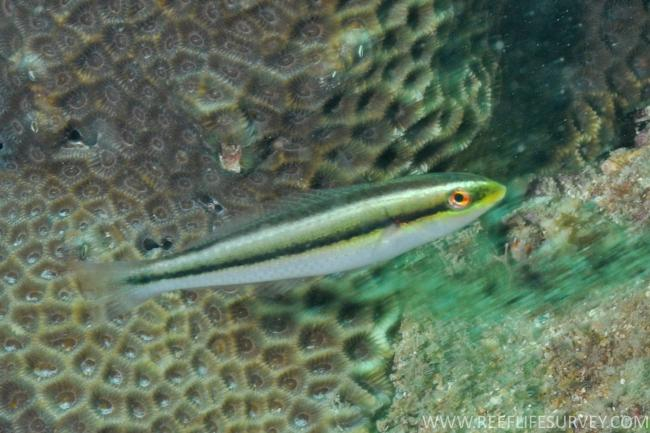fish: (75, 170, 506, 327)
